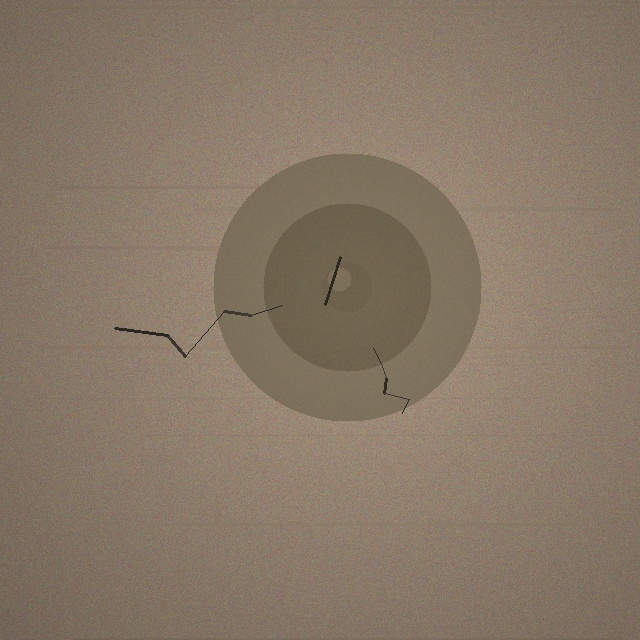crack: (213, 153, 481, 421)
